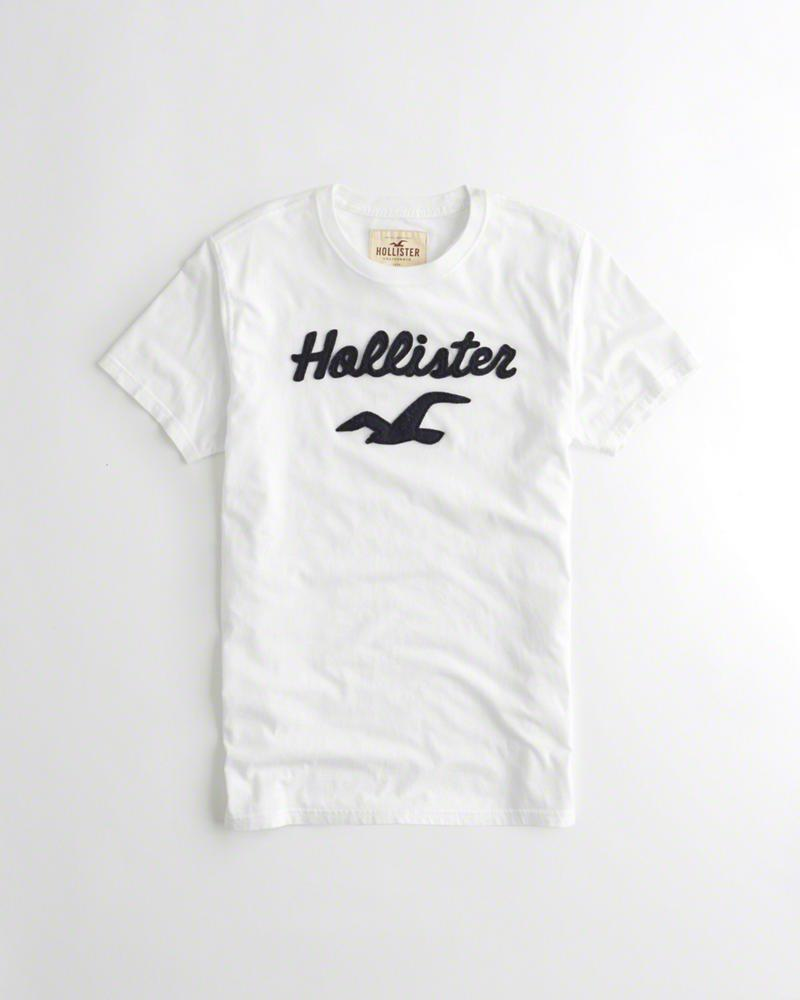teeshirt: (91, 163, 715, 907)
